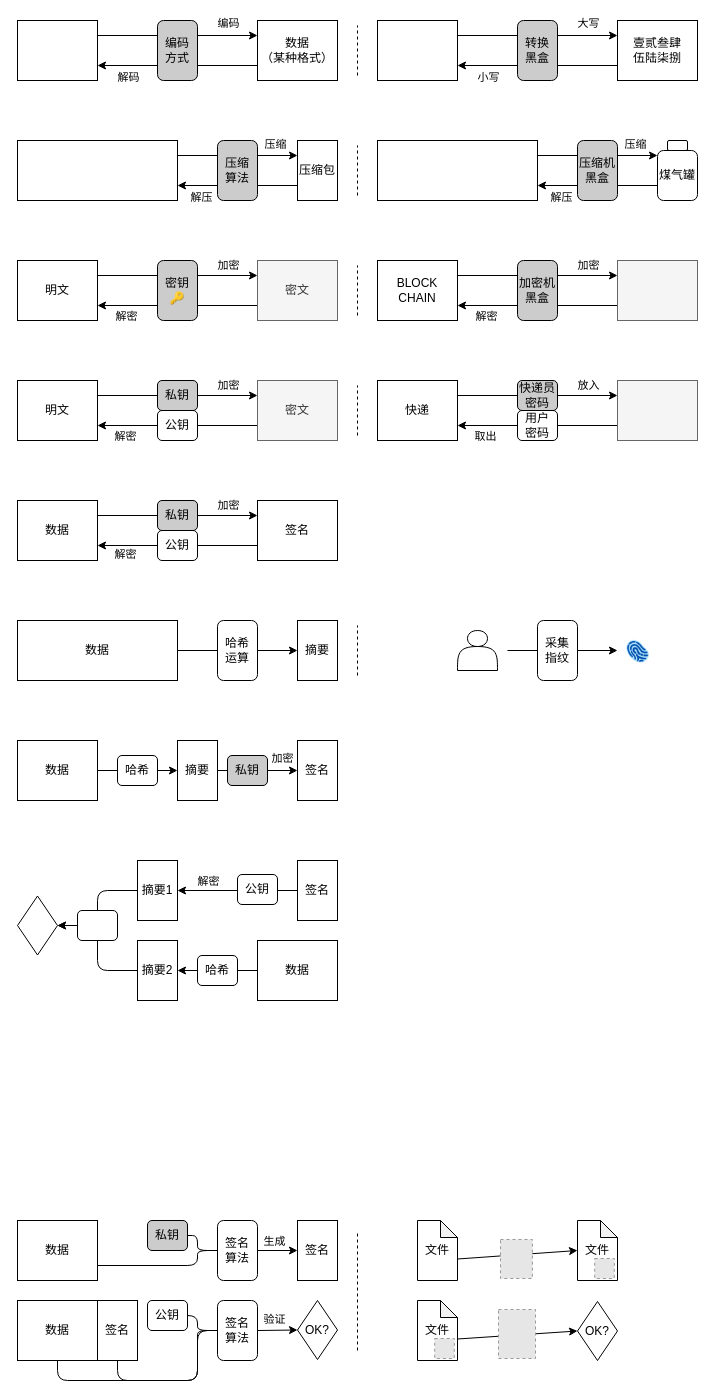
The diagram is 715 pixels wide and 1399 high, and some of its shapes have lost their labels. Grey dashed boxes stand in for pictures. Each missing label, with the centre of its shape:
"EORFN FKDLQ" goes at (657,290).
"一二三四 五六七八" goes at (417,50).
"一致 ?" goes at (37,925).
"原始 数据" goes at (97,170).
"快递柜门 #9527" goes at (657,410).
"数据 （二进制）" goes at (57,50).
"比较" goes at (97,925).
"煤气" goes at (457,170).
